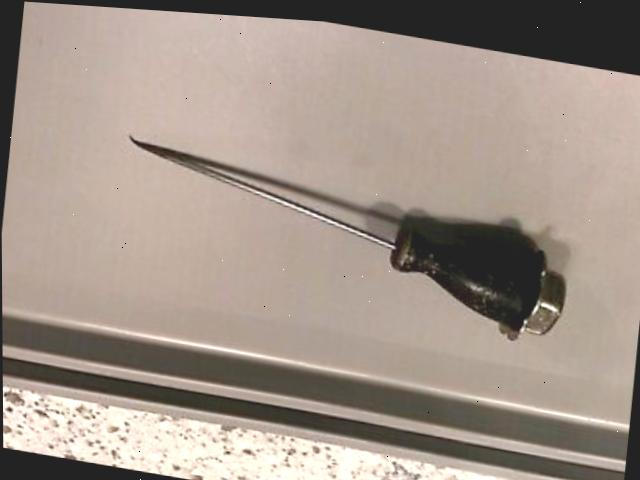ice pick: (114, 133, 572, 343)
